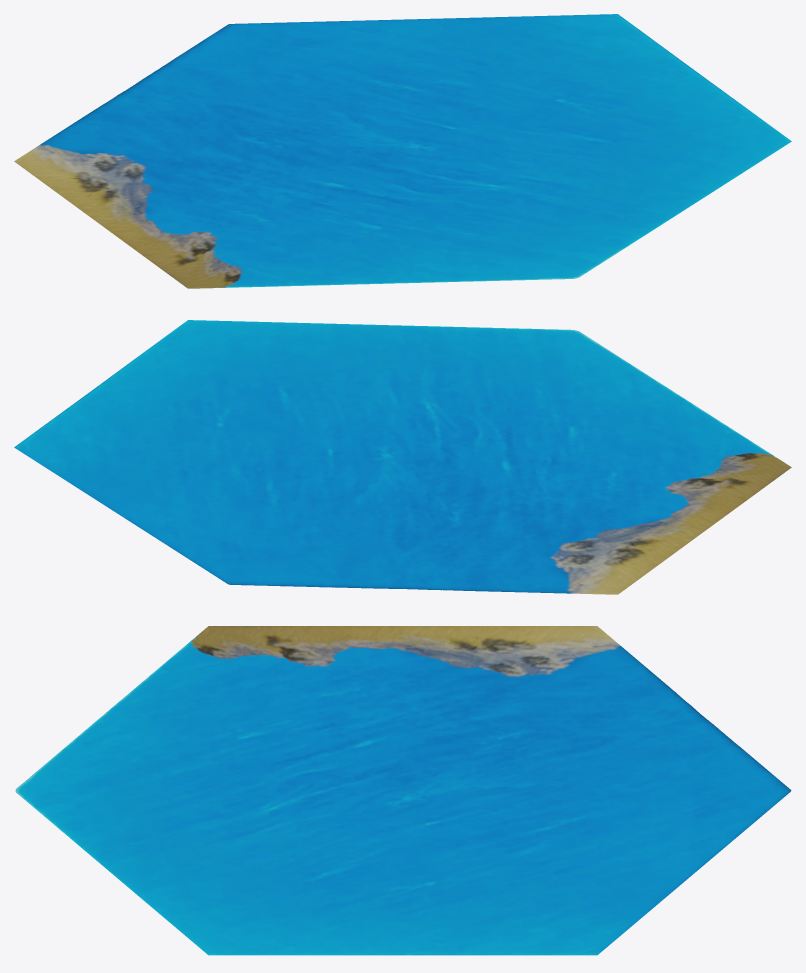
The model's file is Water Solo Side.fbx.
3 views of the same model, one above another, from view 1: azimuth 30°, elevation 25°; view 2: azimuth 150°, elevation 25°; view 3: azimuth 270°, elevation 25° (orthographic). The views are drawn at different scales.
Visible parts, largest first — view 1: Circle; view 2: Circle; view 3: Circle.
Boxes of the visible parts, box(x1,y1,x2,y2) form: Circle: box(14, 14, 791, 288); Circle: box(14, 320, 791, 594); Circle: box(15, 626, 791, 955).
Size of the model in its own units: 200 by 1 by 200.
Materials: 1 (1 with a texture image).
